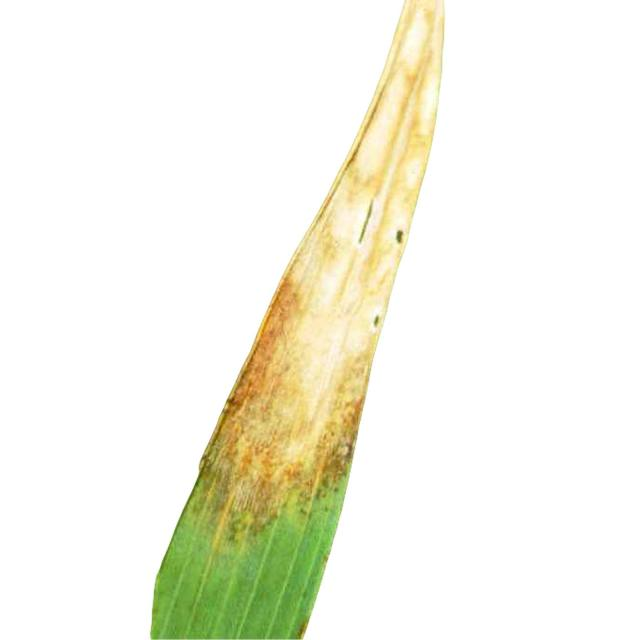Leaf scald: (118, 0, 552, 640)
